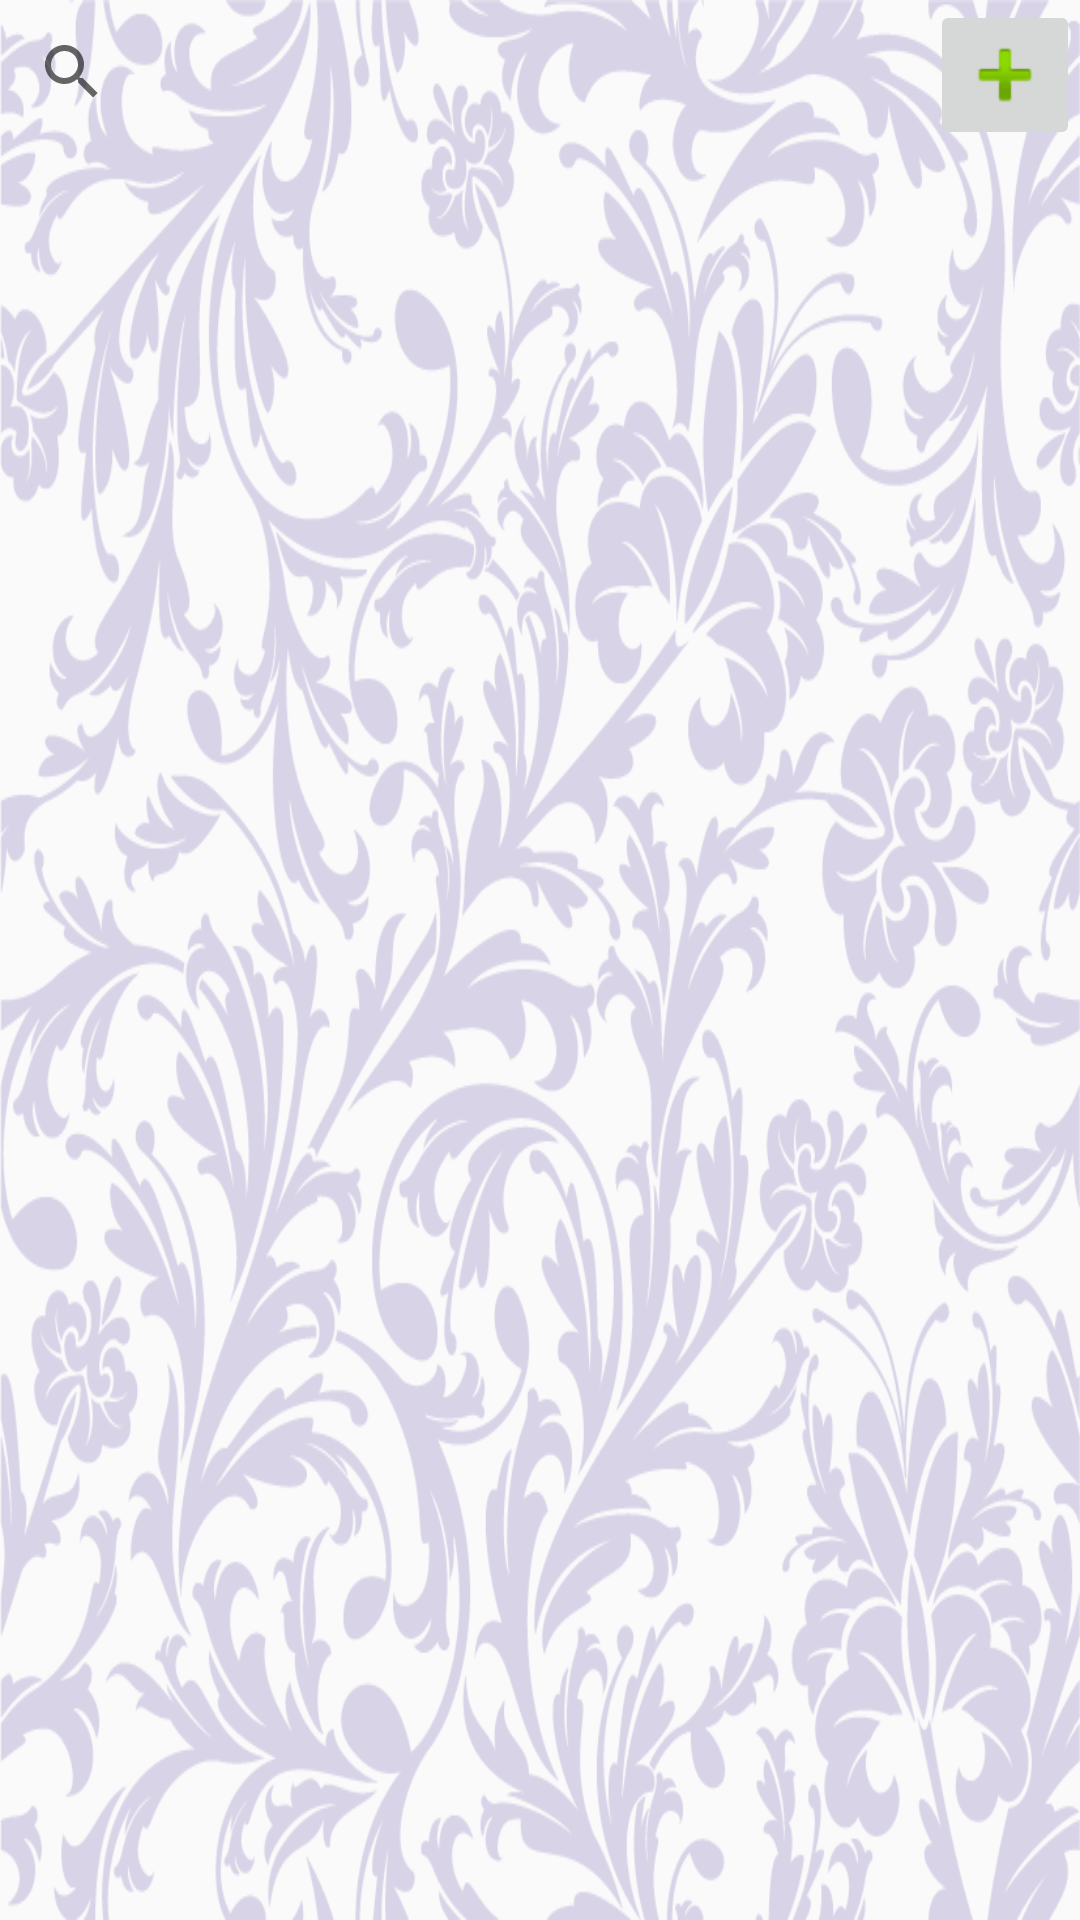

Icons on this 1080px x 1920px Android screen, each with the point to tap as (x=x, y=y):
add: (x=1005, y=75)
